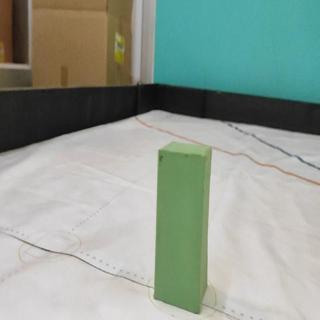greenbox: (154, 140, 213, 313)
